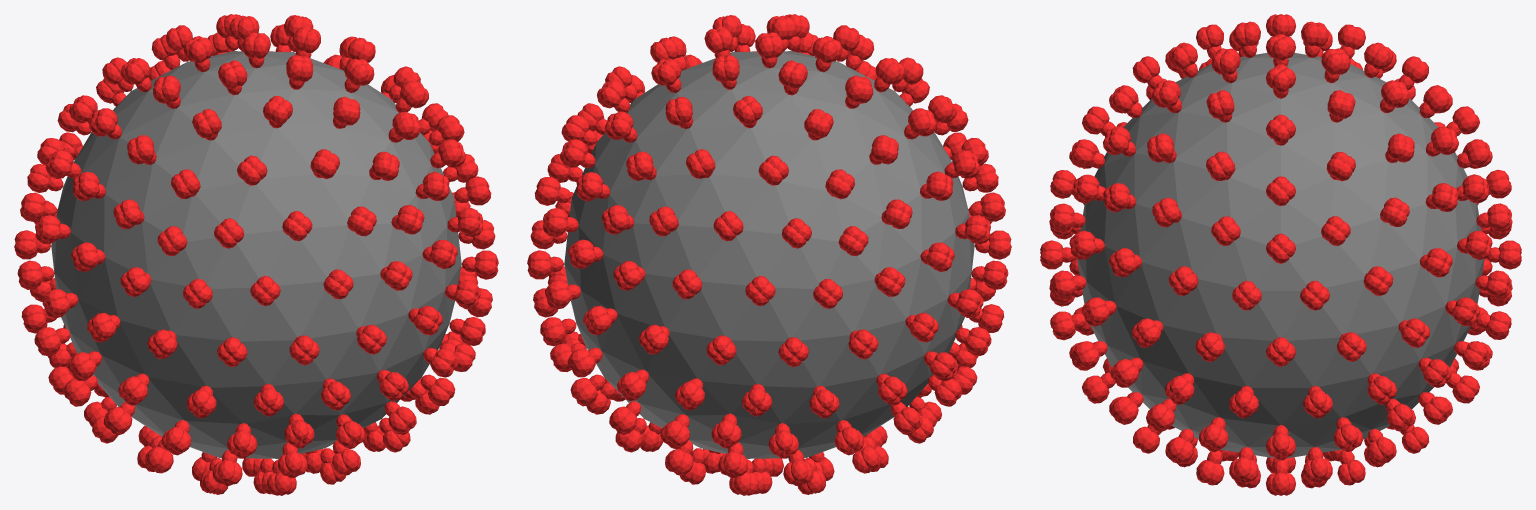
File: CovidCell.fbx
3 renders of one model, left to right at view 1: azimuth 30°, elevation 25°; view 2: azimuth 150°, elevation 25°; view 3: azimuth 270°, elevation 25°, orthographic.
Parts seen in each view (by area): view 1: Icosphere.003; view 2: Icosphere.003; view 3: Icosphere.003.
Boxes of the visible parts, x1,y1,x2,y2 form: Icosphere.003: [14, 14, 498, 495]; Icosphere.003: [527, 14, 1011, 495]; Icosphere.003: [1040, 14, 1521, 495].
Bounding box in the file's own units: 133 × 133 × 133.
